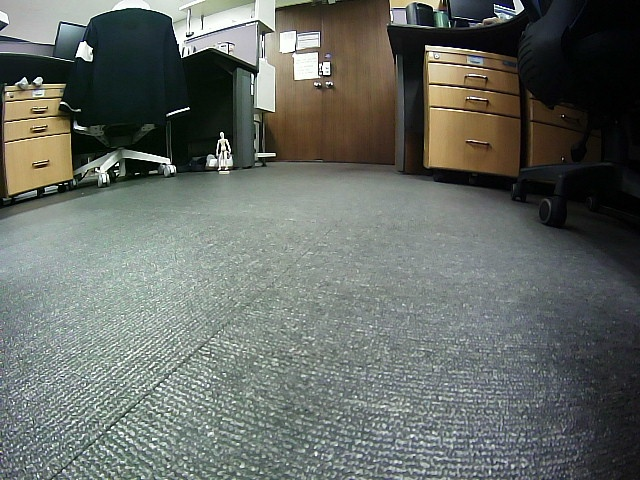person: (215, 132, 231, 170)
